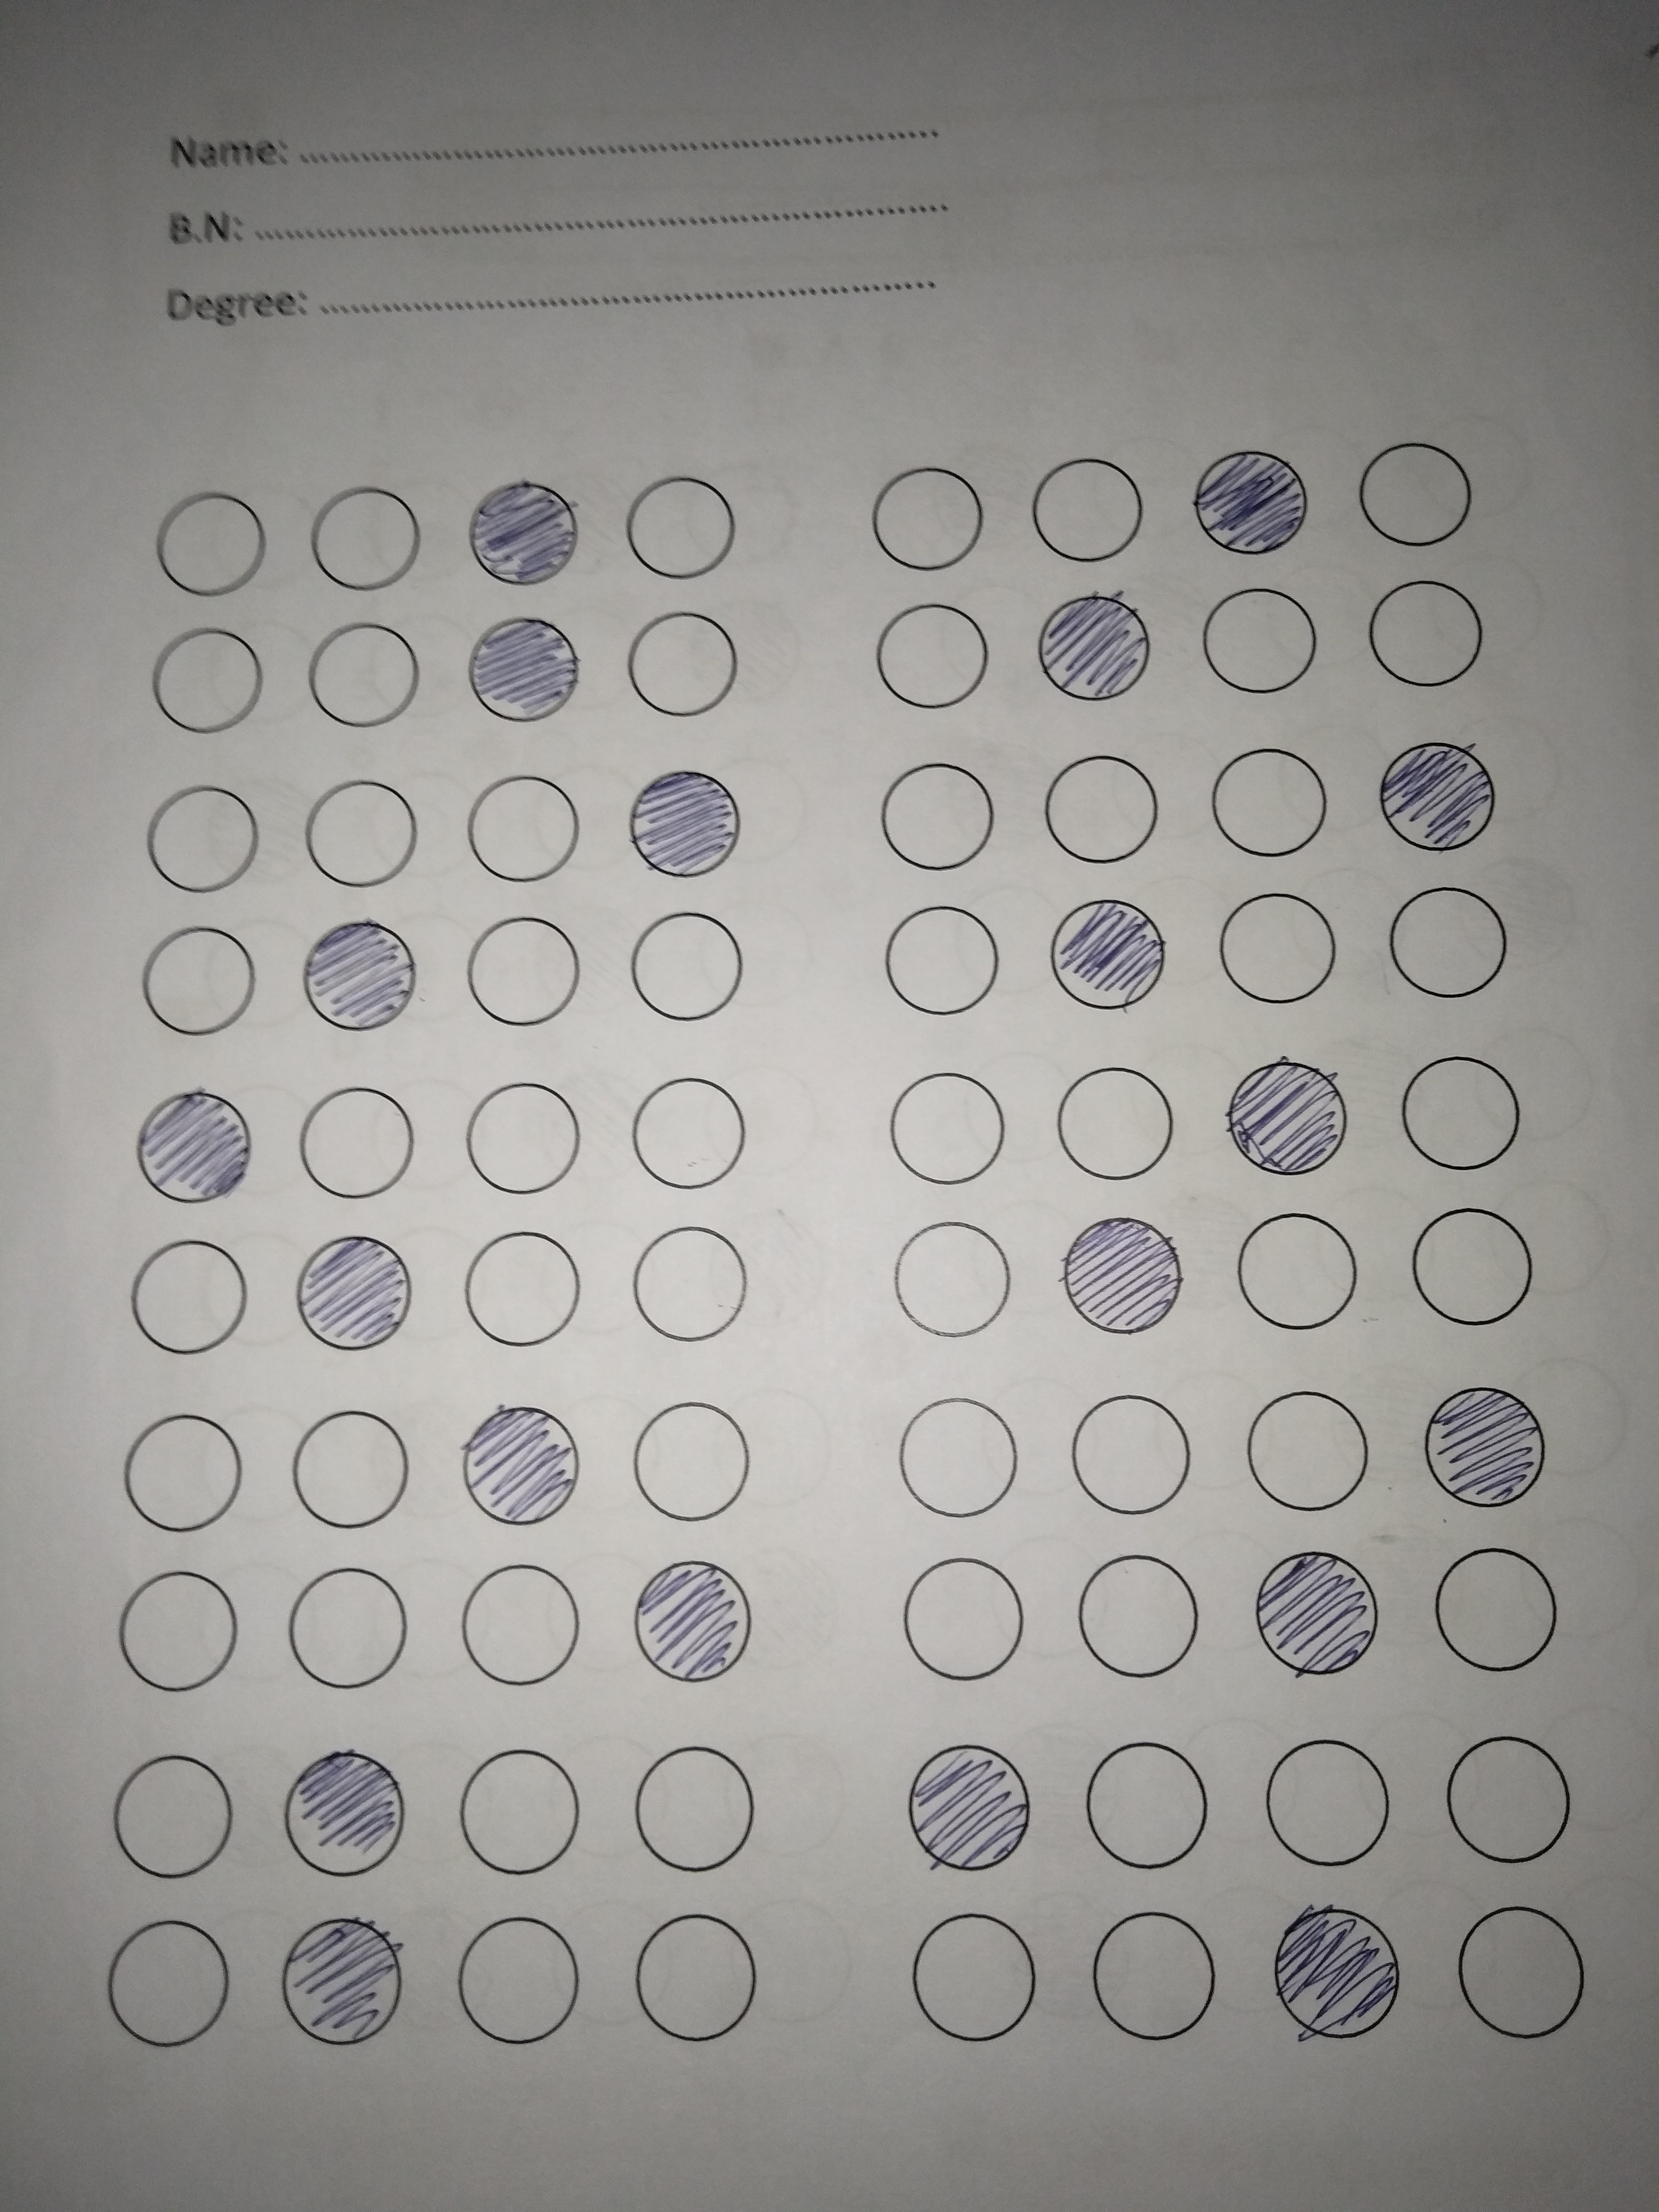not-c: (1436, 1721, 1589, 1883), (1419, 1534, 1568, 1698), (1251, 1721, 1403, 1876), (906, 1900, 1054, 2055), (105, 1897, 235, 2071), (1396, 1040, 1546, 1191), (1446, 1893, 1596, 2045), (110, 1221, 263, 1369), (884, 1381, 1032, 1533), (1087, 1905, 1241, 2052), (863, 888, 1021, 1028), (1080, 1724, 1216, 1879), (1342, 435, 1499, 568), (453, 1907, 596, 2052), (1223, 1197, 1366, 1341), (890, 1547, 1040, 1684), (870, 1211, 1026, 1341), (1061, 1383, 1204, 1526), (1241, 1381, 1384, 1524), (281, 1564, 422, 1709), (448, 1737, 589, 1881), (1068, 1547, 1213, 1688), (1192, 577, 1330, 723), (112, 1564, 256, 1702), (106, 1406, 253, 1541), (1206, 885, 1356, 1017), (291, 1404, 430, 1543), (103, 1750, 242, 1890), (453, 1226, 596, 1362), (455, 1561, 591, 1703), (1405, 1200, 1547, 1336), (629, 1737, 763, 1879), (286, 1075, 427, 1209), (871, 1061, 1018, 1190), (1028, 747, 1176, 874), (125, 780, 274, 906), (1359, 571, 1500, 702), (132, 625, 277, 752), (1384, 878, 1521, 1010), (631, 1911, 760, 2052), (1053, 1064, 1194, 1193), (859, 756, 1007, 878), (626, 1223, 762, 1355), (619, 904, 756, 1035), (629, 1399, 756, 1533), (132, 918, 263, 1047), (460, 1071, 589, 1202), (629, 1071, 756, 1200), (866, 455, 999, 578), (1023, 448, 1155, 571), (450, 773, 587, 892), (615, 610, 755, 726), (460, 913, 594, 1033), (296, 620, 427, 742), (145, 489, 279, 608), (308, 475, 432, 603), (1209, 738, 1333, 864), (617, 467, 744, 585), (875, 597, 997, 719), (301, 779, 420, 897)
taken-c: (1274, 1898, 1405, 2043), (627, 1552, 758, 1684), (1251, 1547, 1380, 1679), (279, 1747, 406, 1878), (279, 1916, 406, 2047), (1424, 1379, 1553, 1507), (1061, 1209, 1187, 1338), (464, 1393, 584, 1527), (1227, 1052, 1352, 1177), (908, 1742, 1030, 1871), (293, 1230, 415, 1350), (1047, 894, 1168, 1015), (134, 1087, 253, 1205), (1378, 740, 1499, 855), (298, 918, 420, 1031), (464, 475, 582, 589), (465, 613, 584, 726), (626, 766, 744, 880), (1037, 589, 1152, 702), (1194, 446, 1310, 556)
